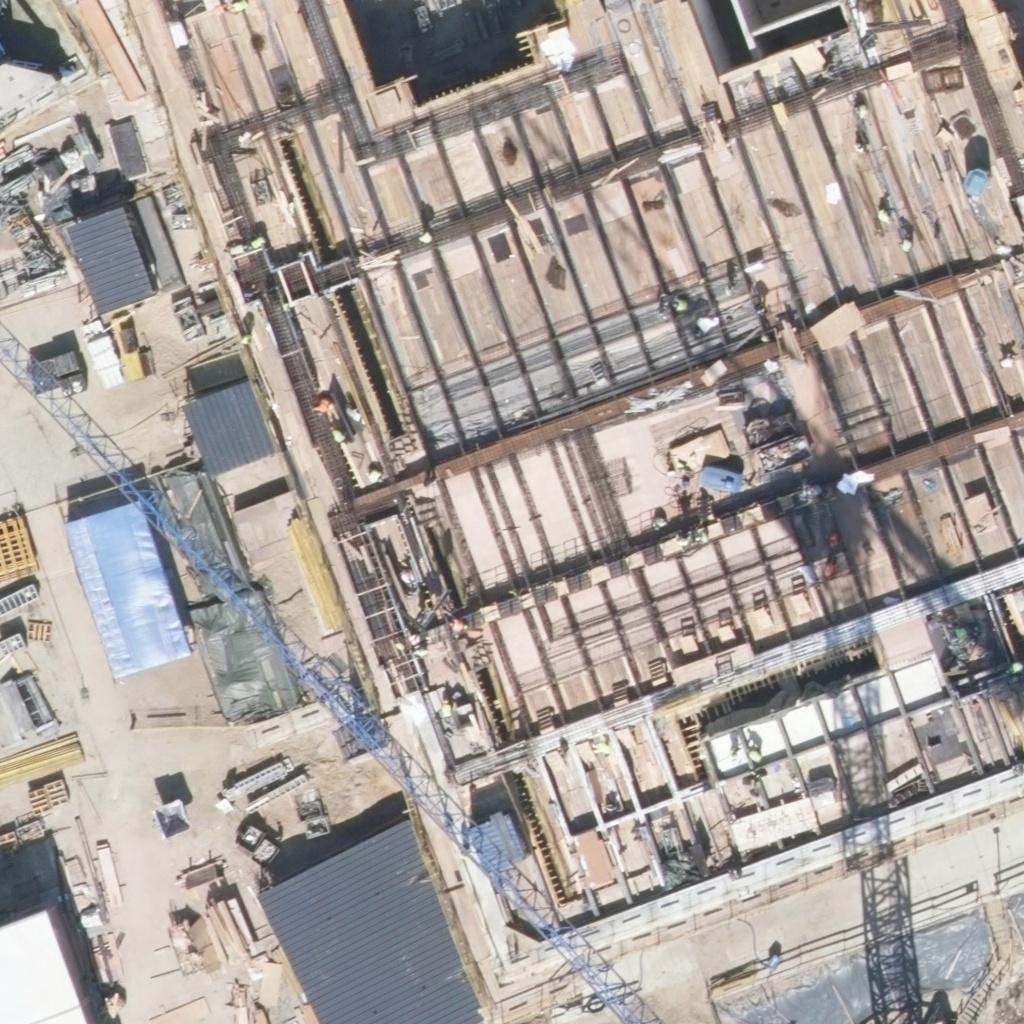zuraw_wiezowy: (0, 329, 658, 1023), (35, 397, 661, 1023)
